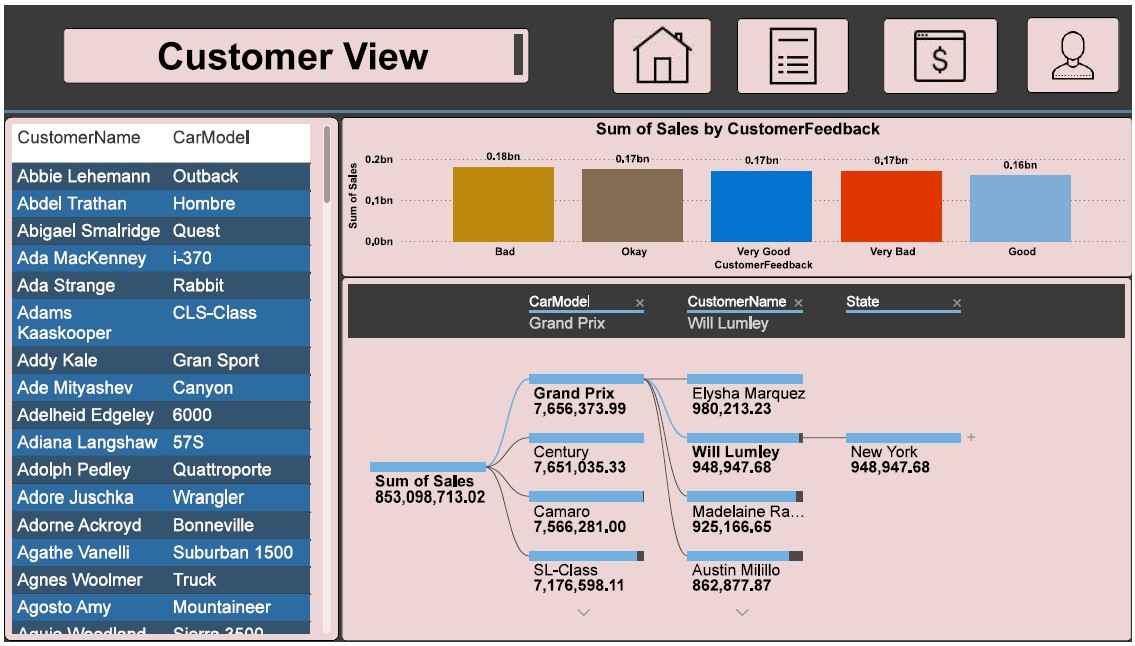

The dashboard page shown, as its layout file describes it:
{"tool":"powerbi","page":{"name":"Customer View","canvas":[1280,720],"ordinal":3},"visuals":[{"type":"image","box":[690.5,14.1,113,86.3],"z":0},{"type":"image","box":[1161.3,12.6,105.1,86.3],"z":1000},{"type":"image","box":[998.1,14.1,130.3,86.3],"z":2000},{"type":"image","box":[831.7,14.1,127.1,86.3],"z":3000},{"type":"tableEx","title":"Top 15 Orders by Date","fields":{"Values":["youtube cars.CustomerName","youtube cars.CarModel"]},"box":[0,125.5,379.8,594.8],"z":3001},{"type":"textbox","box":[67.5,25.1,528.9,62.8],"z":3002},{"type":"columnChart","fields":{"Y":["youtube cars.Sales"],"Category":["youtube cars.CustomerFeedback"]},"box":[382.9,125.5,897.7,182],"z":3003},{"type":"shape","box":[0,113,1280.6,12.6],"z":3004},{"type":"decompositionTreeVisual","fields":{"Analyze":["youtube cars.Sales"],"ExplainBy":["youtube cars.CarModel","youtube cars.CustomerName","youtube cars.State","youtube cars.ShipMode"]},"box":[383,308,897,412],"z":3005}]}

Visuals, with their boxes in screenshot pixels (x1, y1, x2, y2), scaled from the page's 1280x720 canvas onto the 1135x646 screenshot:
image: [left=612, top=13, right=712, bottom=90]
image: [left=1030, top=11, right=1123, bottom=89]
image: [left=885, top=13, right=1001, bottom=90]
image: [left=737, top=13, right=850, bottom=90]
"Top 15 Orders by Date" tableEx: [left=0, top=113, right=337, bottom=645]
textbox: [left=60, top=23, right=529, bottom=79]
columnChart - youtube cars.Sales x youtube cars.CustomerFeedback: [left=340, top=113, right=1134, bottom=276]
shape: [left=0, top=101, right=1134, bottom=113]
decompositionTreeVisual - youtube cars.Sales x youtube cars.CarModel: [left=340, top=276, right=1134, bottom=645]
